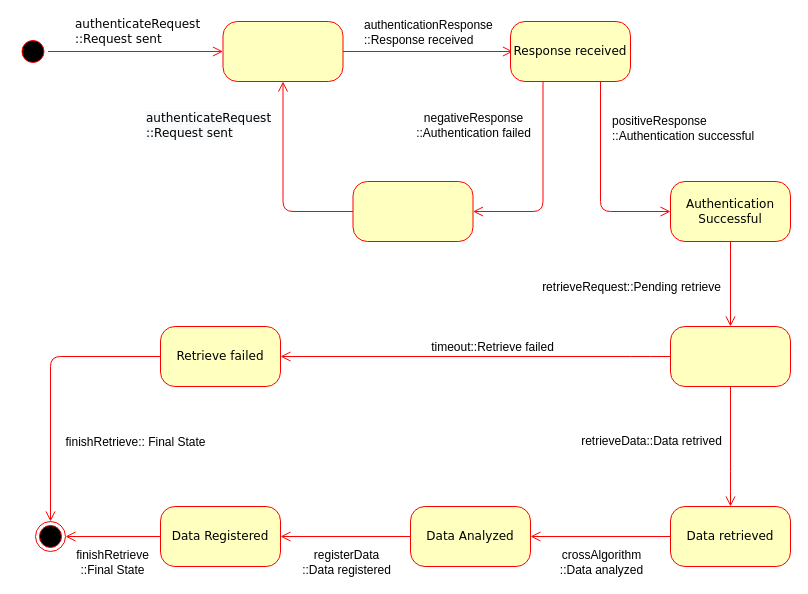
Image size: 808x594. Some labels were removed from this diagram. Each missing label, with the centre of its shape:
Authentication Failed: the point at 412,211
Pending Retrieve: the point at 730,356
Request sent to Municipality: the point at 282,51
